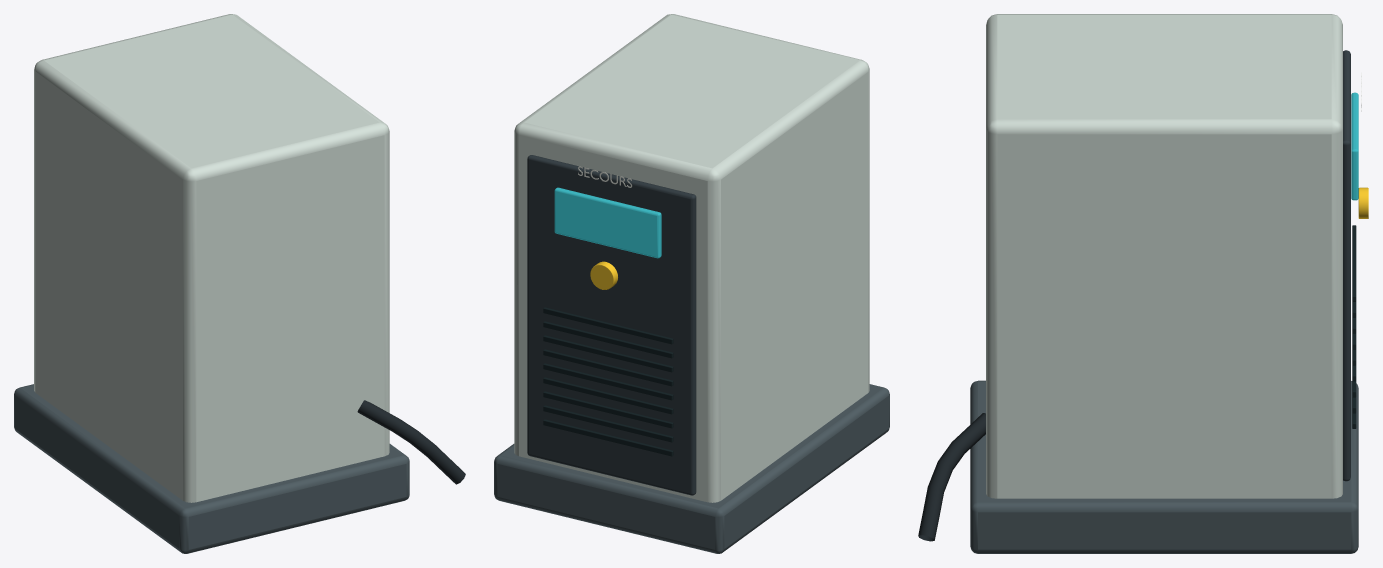
The model's file is ups_battery.glb.
The picture shows the model from 3 angles, left to right: view 1: azimuth 30°, elevation 25°; view 2: azimuth 150°, elevation 25°; view 3: azimuth 270°, elevation 25°; orthographic projection. The views are drawn at different scales.
Visible parts, largest first — view 1: ups_battery_render_mesh; view 2: ups_battery_render_mesh; view 3: ups_battery_render_mesh.
Boxes of the visible parts, <box> form: ups_battery_render_mesh: <box>14,14,465,553</box>; ups_battery_render_mesh: <box>494,14,889,553</box>; ups_battery_render_mesh: <box>918,14,1368,553</box>.
Size of the model in its own units: 0.5507 by 0.75 by 0.7191.
